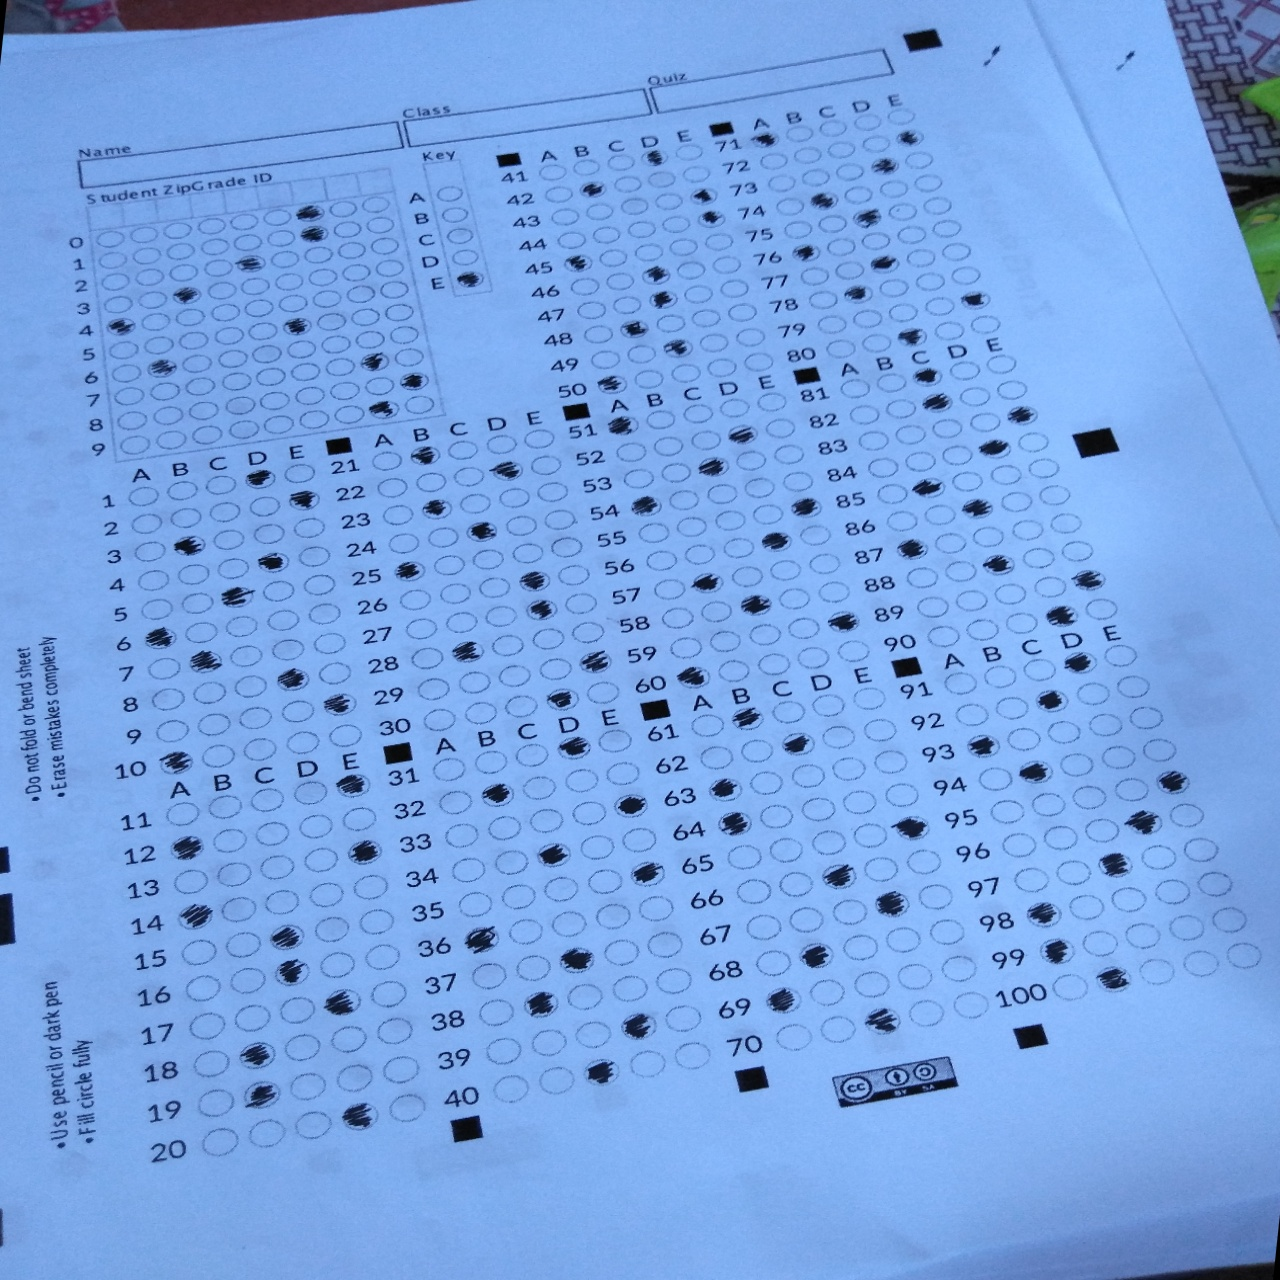not-c: (474, 998, 517, 1028), (488, 1074, 531, 1104), (481, 1036, 525, 1065), (527, 1028, 572, 1057), (670, 1041, 715, 1070), (367, 978, 411, 1007), (326, 1024, 370, 1054), (285, 1071, 329, 1101), (904, 999, 948, 1028), (563, 981, 605, 1012), (196, 1088, 238, 1118), (600, 938, 644, 967), (653, 966, 696, 995), (607, 972, 651, 1001), (661, 1003, 704, 1033), (380, 1056, 423, 1085), (355, 907, 399, 937), (305, 879, 348, 908), (309, 913, 353, 942), (275, 995, 319, 1024), (281, 1033, 325, 1062), (334, 1064, 377, 1094), (198, 1128, 241, 1157), (181, 973, 224, 1002), (178, 938, 222, 967), (223, 931, 266, 960), (251, 819, 294, 849), (159, 799, 203, 829), (1165, 912, 1208, 941), (924, 918, 967, 947), (881, 924, 925, 953), (829, 899, 872, 928), (338, 806, 382, 835), (245, 787, 290, 815), (644, 931, 686, 960), (627, 1049, 669, 1078), (535, 1065, 577, 1095), (386, 1092, 428, 1122), (360, 942, 402, 972), (316, 949, 359, 979), (231, 1005, 273, 1034), (227, 966, 270, 995), (1121, 920, 1163, 949), (742, 912, 784, 941), (785, 905, 828, 934), (372, 1017, 415, 1046), (186, 1013, 230, 1041), (246, 1119, 290, 1148), (217, 896, 260, 924), (257, 853, 300, 881), (293, 812, 336, 840), (212, 862, 256, 890), (1179, 949, 1223, 978), (1047, 972, 1090, 1000), (1136, 956, 1179, 985), (949, 990, 993, 1019), (815, 1016, 858, 1044), (806, 978, 850, 1006), (893, 962, 937, 990), (938, 955, 981, 983), (838, 934, 881, 962), (751, 949, 795, 978), (572, 1021, 614, 1049), (350, 874, 393, 903), (292, 1110, 334, 1138), (189, 1049, 231, 1077), (300, 847, 342, 876), (169, 867, 211, 896), (204, 794, 246, 822), (290, 778, 332, 806), (1223, 941, 1265, 969), (904, 847, 946, 876), (850, 971, 893, 998), (512, 742, 552, 771), (261, 887, 302, 915), (207, 826, 248, 855), (915, 883, 956, 911), (1078, 930, 1121, 956), (772, 1024, 815, 1051), (860, 855, 903, 881), (542, 874, 581, 903), (570, 799, 610, 828), (549, 908, 588, 937), (999, 831, 1040, 858), (850, 822, 891, 849), (737, 738, 778, 765), (499, 881, 538, 910), (471, 748, 510, 776), (526, 806, 565, 835), (595, 727, 634, 755), (620, 826, 659, 855), (508, 918, 546, 946), (561, 768, 601, 795), (602, 760, 642, 787), (871, 749, 911, 776), (1039, 825, 1080, 851), (1138, 845, 1179, 871), (776, 871, 817, 897), (765, 837, 806, 863), (745, 770, 787, 796), (768, 700, 809, 726), (849, 686, 890, 712), (456, 890, 495, 917), (491, 849, 530, 876), (485, 813, 524, 840), (519, 774, 558, 801), (585, 869, 624, 896), (578, 835, 617, 862), (636, 896, 675, 922), (594, 903, 633, 930), (513, 954, 552, 981), (470, 962, 509, 989), (1098, 744, 1138, 770), (975, 767, 1015, 792), (1056, 751, 1096, 777), (987, 799, 1027, 825), (1166, 802, 1206, 828), (1180, 836, 1220, 862), (1053, 859, 1092, 885), (1210, 906, 1250, 932), (809, 830, 849, 856), (881, 782, 921, 808), (829, 755, 869, 781), (696, 744, 736, 770), (688, 713, 728, 738), (809, 693, 849, 719), (964, 617, 1001, 644), (1003, 610, 1041, 636), (1110, 778, 1151, 803), (1081, 817, 1122, 842), (1010, 867, 1051, 892), (1065, 896, 1107, 920), (1108, 886, 1149, 911), (1152, 879, 1193, 904), (1194, 871, 1235, 896), (797, 797, 838, 822), (787, 763, 828, 788), (925, 622, 964, 648), (755, 652, 794, 678), (714, 658, 753, 683), (706, 628, 744, 654), (520, 425, 559, 451), (379, 502, 417, 527), (1084, 712, 1124, 736), (1070, 785, 1110, 810), (1028, 794, 1068, 818), (734, 878, 774, 903), (726, 845, 765, 870), (839, 790, 879, 815), (757, 804, 797, 829), (860, 719, 900, 743), (818, 724, 858, 749), (833, 638, 871, 663), (745, 622, 783, 648), (712, 509, 749, 535), (749, 502, 787, 527), (648, 433, 686, 458), (496, 663, 533, 689), (561, 591, 599, 617), (178, 591, 216, 617), (139, 595, 177, 621), (794, 646, 832, 670), (659, 607, 697, 632), (775, 587, 813, 612), (765, 558, 804, 583), (741, 476, 779, 501), (618, 467, 656, 491), (612, 441, 651, 465), (686, 428, 724, 452), (679, 401, 717, 425), (482, 433, 520, 457), (461, 700, 499, 724), (537, 658, 576, 682), (401, 617, 440, 641), (234, 706, 273, 730), (309, 631, 348, 655), (147, 658, 185, 682), (209, 529, 247, 553), (250, 522, 288, 546), (1020, 658, 1058, 682), (941, 670, 980, 695), (1044, 720, 1083, 744), (1126, 704, 1165, 729), (542, 508, 578, 533), (1139, 737, 1179, 761), (1083, 595, 1121, 620), (784, 617, 822, 641), (667, 635, 704, 660), (697, 598, 735, 622), (816, 580, 853, 605), (728, 564, 765, 588), (651, 578, 688, 602), (681, 543, 719, 567), (721, 537, 758, 561), (703, 482, 741, 506), (674, 513, 712, 538), (666, 486, 703, 511), (656, 461, 694, 485), (761, 417, 798, 442), (770, 442, 808, 467), (642, 406, 680, 430), (368, 449, 406, 474), (374, 475, 411, 499), (502, 515, 539, 539), (436, 581, 474, 606), (443, 610, 481, 634), (456, 670, 493, 695), (476, 576, 513, 600), (554, 563, 592, 587), (409, 646, 447, 670), (414, 676, 451, 701), (279, 700, 316, 724), (195, 712, 232, 736), (232, 675, 270, 700), (150, 687, 188, 712), (316, 662, 354, 687), (268, 638, 306, 662), (128, 511, 165, 536), (166, 506, 204, 531), (173, 561, 211, 586), (244, 493, 281, 518), (291, 515, 328, 539), (429, 756, 467, 781), (443, 823, 481, 847), (981, 663, 1019, 688), (731, 450, 770, 474), (496, 486, 535, 510), (501, 695, 539, 719), (489, 634, 527, 658), (481, 606, 519, 629), (568, 621, 607, 645), (529, 627, 567, 651), (421, 708, 459, 731), (326, 724, 365, 748), (282, 731, 321, 755), (183, 620, 222, 644), (223, 615, 261, 639), (263, 610, 301, 633), (305, 602, 343, 626), (202, 472, 240, 496), (1114, 674, 1152, 697), (798, 523, 835, 547), (642, 549, 679, 573), (635, 522, 672, 546), (527, 454, 564, 478), (535, 481, 571, 505), (549, 535, 585, 559), (399, 587, 435, 612), (241, 738, 278, 763), (200, 744, 237, 769), (154, 720, 190, 744), (229, 644, 265, 668), (261, 579, 298, 604), (215, 557, 251, 581), (206, 501, 243, 525), (282, 462, 319, 486), (437, 789, 474, 813), (1073, 682, 1112, 704), (992, 697, 1032, 720), (983, 352, 1021, 375), (1046, 511, 1083, 535), (806, 552, 844, 576), (778, 470, 816, 493), (754, 390, 791, 414), (444, 438, 482, 462), (411, 470, 449, 493), (449, 465, 486, 489), (457, 491, 495, 515), (384, 532, 422, 556), (425, 526, 463, 550), (509, 542, 546, 565), (469, 549, 506, 572), (430, 552, 468, 576), (585, 681, 622, 704), (191, 682, 229, 706), (302, 572, 340, 595), (136, 568, 173, 592), (131, 539, 169, 563), (123, 484, 161, 508), (163, 478, 200, 502), (297, 545, 334, 568), (450, 858, 488, 881), (1003, 728, 1041, 751), (993, 583, 1028, 607), (952, 703, 990, 726), (921, 503, 958, 526), (903, 450, 939, 474), (892, 423, 928, 447), (930, 417, 966, 441), (956, 386, 993, 409), (947, 359, 983, 382), (845, 402, 881, 425), (904, 565, 940, 588), (716, 395, 753, 418), (883, 510, 920, 532), (319, 334, 354, 358), (949, 470, 985, 493), (864, 455, 899, 478), (856, 429, 891, 452), (954, 588, 989, 612), (1101, 644, 1136, 667), (823, 336, 859, 359), (995, 379, 1032, 401), (1036, 483, 1073, 505), (932, 531, 968, 553), (998, 490, 1034, 512), (988, 464, 1024, 486), (939, 445, 975, 468), (874, 372, 908, 395), (915, 594, 949, 618), (352, 328, 387, 350), (348, 306, 383, 328), (874, 277, 910, 299), (1010, 518, 1046, 540), (968, 411, 1003, 434), (837, 377, 872, 400), (881, 399, 917, 421), (942, 560, 978, 583), (1033, 576, 1068, 598), (968, 313, 1005, 334), (932, 320, 968, 341), (1015, 431, 1051, 452), (1024, 458, 1061, 479), (1058, 540, 1095, 561), (1020, 547, 1056, 568), (971, 527, 1007, 549), (226, 418, 260, 441), (154, 429, 188, 451), (696, 332, 730, 354), (673, 260, 707, 282), (645, 169, 679, 191), (610, 173, 644, 196), (293, 384, 328, 406), (327, 381, 362, 402), (306, 267, 341, 288), (688, 308, 723, 329), (653, 313, 688, 334), (602, 272, 638, 293), (588, 225, 624, 246), (624, 220, 659, 241), (652, 191, 687, 212), (581, 200, 617, 222), (568, 157, 604, 178), (798, 266, 833, 287), (948, 264, 983, 285), (860, 331, 896, 352), (688, 186, 723, 207), (636, 147, 672, 168), (595, 248, 631, 270), (132, 267, 166, 288), (324, 358, 358, 379), (314, 312, 348, 333), (339, 261, 373, 282), (238, 275, 272, 297), (204, 280, 238, 301), (243, 298, 277, 319), (173, 306, 207, 327), (142, 335, 176, 356), (107, 339, 141, 360), (110, 363, 144, 384), (179, 352, 213, 373), (215, 348, 248, 369), (248, 343, 282, 365), (284, 339, 318, 360), (113, 386, 147, 407), (257, 390, 291, 411), (190, 424, 224, 445), (568, 275, 602, 297), (588, 349, 622, 370), (624, 343, 658, 365), (610, 295, 644, 316), (695, 209, 729, 230), (666, 236, 700, 257), (702, 231, 736, 252), (632, 241, 666, 263), (716, 279, 750, 300), (726, 302, 760, 324), (679, 164, 713, 185), (617, 196, 651, 217), (939, 241, 973, 263), (874, 483, 908, 504), (577, 179, 611, 200), (275, 293, 311, 313), (210, 326, 245, 346), (261, 414, 297, 434), (709, 256, 744, 275), (681, 284, 716, 304), (930, 219, 965, 239), (894, 225, 930, 245), (858, 231, 893, 251), (816, 314, 851, 334), (850, 309, 885, 329), (912, 272, 947, 292), (368, 234, 401, 256), (290, 361, 322, 382), (742, 352, 775, 373), (98, 272, 132, 292), (165, 263, 199, 282), (200, 258, 234, 278), (373, 258, 407, 278), (382, 302, 416, 322), (298, 409, 332, 429), (309, 290, 343, 309), (343, 284, 377, 304), (273, 272, 307, 292), (207, 302, 241, 322), (136, 290, 170, 309), (102, 294, 136, 314), (138, 311, 172, 331), (176, 331, 210, 350), (246, 321, 280, 341), (254, 366, 288, 386), (220, 372, 254, 392), (183, 376, 217, 396), (115, 410, 149, 430), (151, 406, 185, 425), (186, 400, 220, 420), (118, 436, 152, 456), (433, 183, 467, 203), (448, 247, 482, 267), (542, 184, 576, 204), (549, 207, 583, 227), (631, 369, 665, 389), (704, 358, 738, 377), (733, 328, 767, 348), (659, 215, 693, 234), (832, 260, 866, 280), (806, 290, 840, 309), (886, 302, 920, 322), (922, 297, 956, 316), (765, 173, 797, 195), (799, 166, 831, 188), (879, 178, 911, 199), (824, 237, 859, 256), (268, 248, 301, 268), (393, 347, 425, 367), (149, 381, 182, 401), (223, 395, 256, 415), (835, 161, 867, 181), (903, 150, 935, 170), (840, 185, 873, 205), (885, 105, 915, 127), (260, 209, 294, 227), (264, 229, 298, 247), (199, 237, 233, 256), (301, 245, 335, 264), (334, 241, 368, 260), (331, 220, 365, 239), (377, 280, 411, 299), (402, 395, 436, 414), (332, 406, 366, 424), (443, 226, 477, 245), (536, 163, 570, 182), (554, 231, 588, 250), (581, 325, 615, 343), (668, 365, 702, 383), (605, 152, 636, 172), (783, 124, 815, 144), (862, 134, 893, 154), (825, 139, 857, 159), (912, 173, 944, 193), (782, 219, 813, 239), (816, 215, 847, 234), (921, 196, 953, 216), (159, 222, 195, 239), (94, 230, 127, 248), (365, 216, 397, 234), (326, 200, 359, 219), (359, 196, 392, 215), (387, 325, 420, 343), (363, 376, 396, 395), (576, 300, 608, 319), (772, 197, 805, 216), (904, 248, 937, 267), (887, 202, 918, 222), (440, 206, 471, 225), (851, 114, 883, 132), (758, 152, 790, 171), (196, 217, 229, 234), (232, 233, 265, 251), (164, 243, 197, 260), (131, 247, 164, 265), (97, 251, 130, 268), (672, 143, 704, 161), (817, 118, 847, 137), (791, 147, 822, 165), (125, 227, 159, 244), (229, 213, 260, 231)
taken-c: (459, 924, 504, 956), (236, 1039, 279, 1071), (520, 989, 565, 1021), (554, 945, 599, 976), (760, 985, 805, 1015), (240, 1077, 284, 1109), (338, 1101, 381, 1132), (617, 1012, 660, 1043), (870, 890, 915, 919), (580, 1056, 622, 1088), (817, 863, 862, 892), (1021, 900, 1065, 930), (1092, 850, 1137, 879), (1151, 767, 1196, 796), (322, 987, 365, 1017), (860, 1007, 903, 1037), (795, 940, 838, 969), (1036, 937, 1080, 966), (1124, 809, 1167, 838), (272, 956, 312, 988), (553, 734, 595, 763), (1091, 964, 1133, 993), (542, 687, 585, 715), (267, 922, 308, 952), (627, 860, 669, 888), (533, 840, 576, 869), (477, 781, 519, 809), (704, 776, 745, 804), (890, 813, 931, 842), (610, 794, 652, 821), (576, 648, 618, 675), (447, 639, 489, 666), (713, 809, 755, 836), (346, 839, 386, 867), (1014, 758, 1054, 787), (175, 903, 216, 930), (166, 835, 206, 862), (964, 733, 1003, 760), (890, 536, 931, 561), (954, 497, 995, 523), (516, 568, 554, 595), (673, 663, 712, 690), (1062, 648, 1101, 675), (779, 731, 819, 757), (1032, 687, 1071, 713), (1043, 602, 1083, 628), (907, 476, 948, 501), (975, 438, 1016, 463), (461, 520, 499, 546), (602, 413, 641, 438), (728, 706, 767, 731), (488, 459, 527, 484), (1070, 567, 1110, 592), (979, 553, 1019, 578), (908, 366, 948, 390), (523, 597, 560, 622), (418, 497, 456, 523), (142, 626, 181, 651), (787, 496, 825, 520), (272, 668, 309, 693), (320, 693, 358, 717), (157, 750, 195, 775), (392, 558, 429, 583), (408, 444, 445, 469), (724, 421, 762, 445), (593, 373, 631, 397), (694, 455, 731, 479), (688, 571, 726, 595), (1002, 404, 1041, 428), (219, 585, 256, 610), (336, 772, 373, 797), (559, 251, 595, 275), (627, 493, 663, 518), (737, 592, 774, 617), (825, 610, 862, 634), (171, 535, 209, 558), (188, 651, 225, 674), (659, 338, 696, 361), (920, 392, 958, 415), (864, 253, 903, 275), (254, 551, 291, 574), (615, 318, 652, 341), (760, 530, 796, 553), (839, 284, 877, 306), (639, 265, 674, 288), (558, 251, 593, 274), (893, 326, 930, 348), (787, 241, 823, 264), (866, 155, 903, 177), (892, 127, 928, 149), (804, 191, 842, 212), (644, 290, 679, 312), (956, 290, 993, 311), (849, 207, 885, 229), (356, 350, 392, 372), (396, 370, 431, 392), (367, 399, 402, 420), (241, 468, 277, 489), (287, 489, 322, 510), (234, 253, 267, 275), (747, 129, 781, 150), (299, 223, 332, 244), (454, 268, 486, 290), (171, 285, 204, 306), (281, 315, 314, 336), (105, 315, 138, 336), (145, 358, 178, 379), (293, 203, 326, 223)
